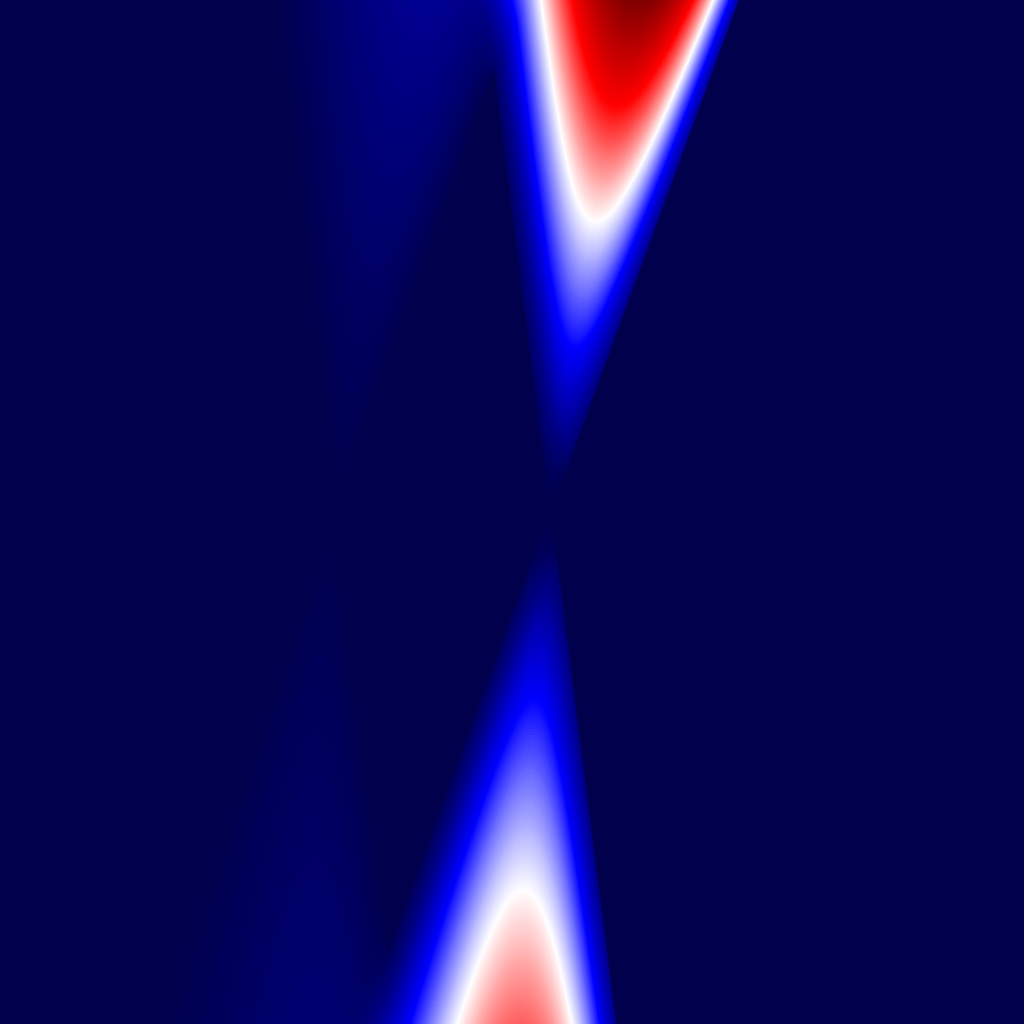diamond: (334, 67, 553, 957)
